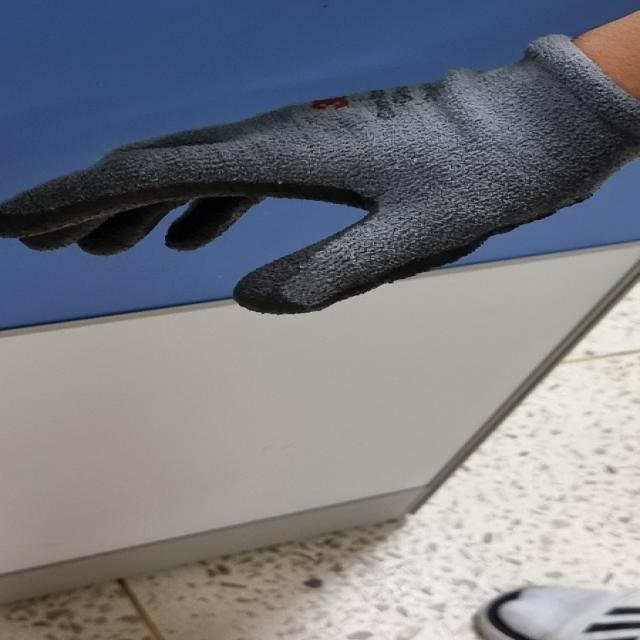Gloves: (0, 34, 637, 315)
